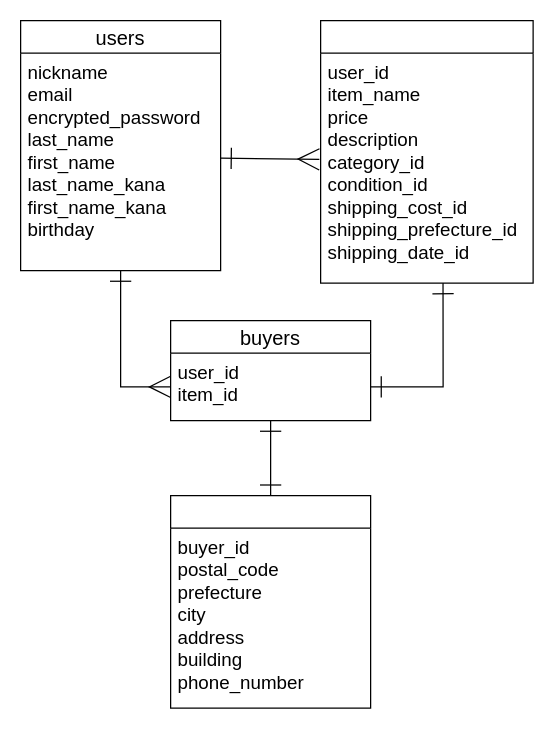
Some shapes in this 554 by 729 pixel diagram are drawn without their labels. Here are the shapes that lost their labels. From the top down, the box of each, then its label:
(319, 19, 533, 283): items
(169, 494, 371, 708): destinations
